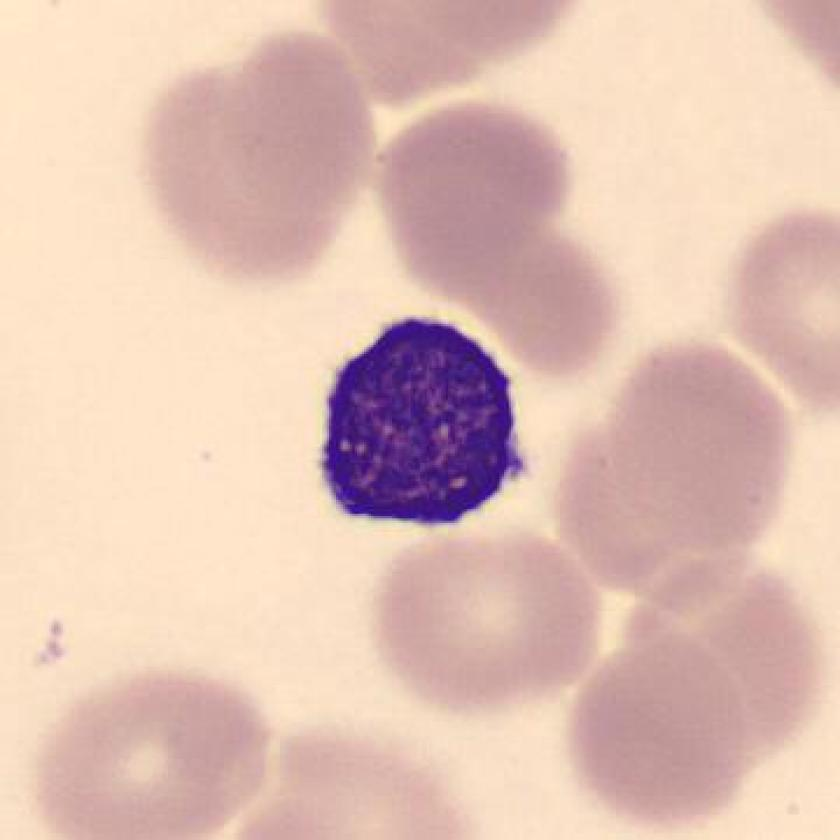lymphocyte: (302, 307, 538, 550)
